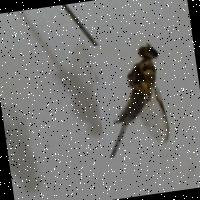Oriental-fruit-fly: (90, 36, 180, 158)
